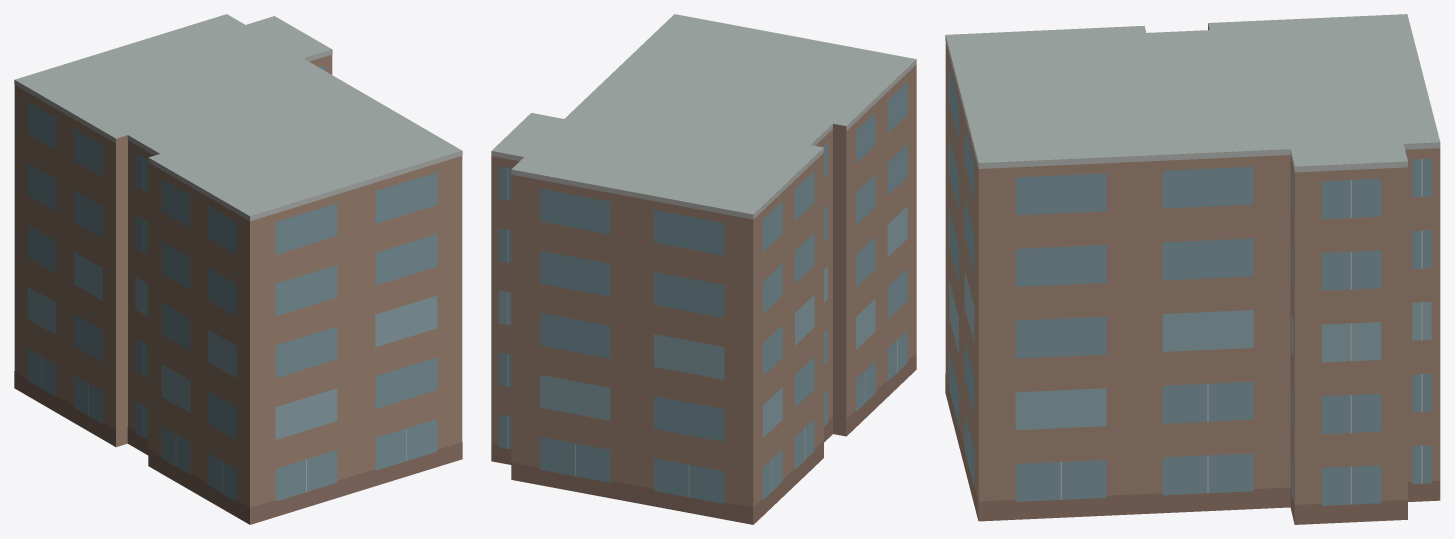
File: survey-upis-33022602.glb
3 renders of one model, left to right at view 1: azimuth 30°, elevation 25°; view 2: azimuth 150°, elevation 25°; view 3: azimuth 270°, elevation 25°, orthographic. The views are drawn at different scales.
Parts seen in each view (by area): view 1: survey-upis-33022602.tmp; view 2: survey-upis-33022602.tmp; view 3: survey-upis-33022602.tmp.
Part boxes in pixels (x1,y1,x2,y2): survey-upis-33022602.tmp: (14,14,462,524); survey-upis-33022602.tmp: (491,14,916,524); survey-upis-33022602.tmp: (945,14,1440,524).
Bounding box in the file's own units: 13.72 × 15 × 18.79.
